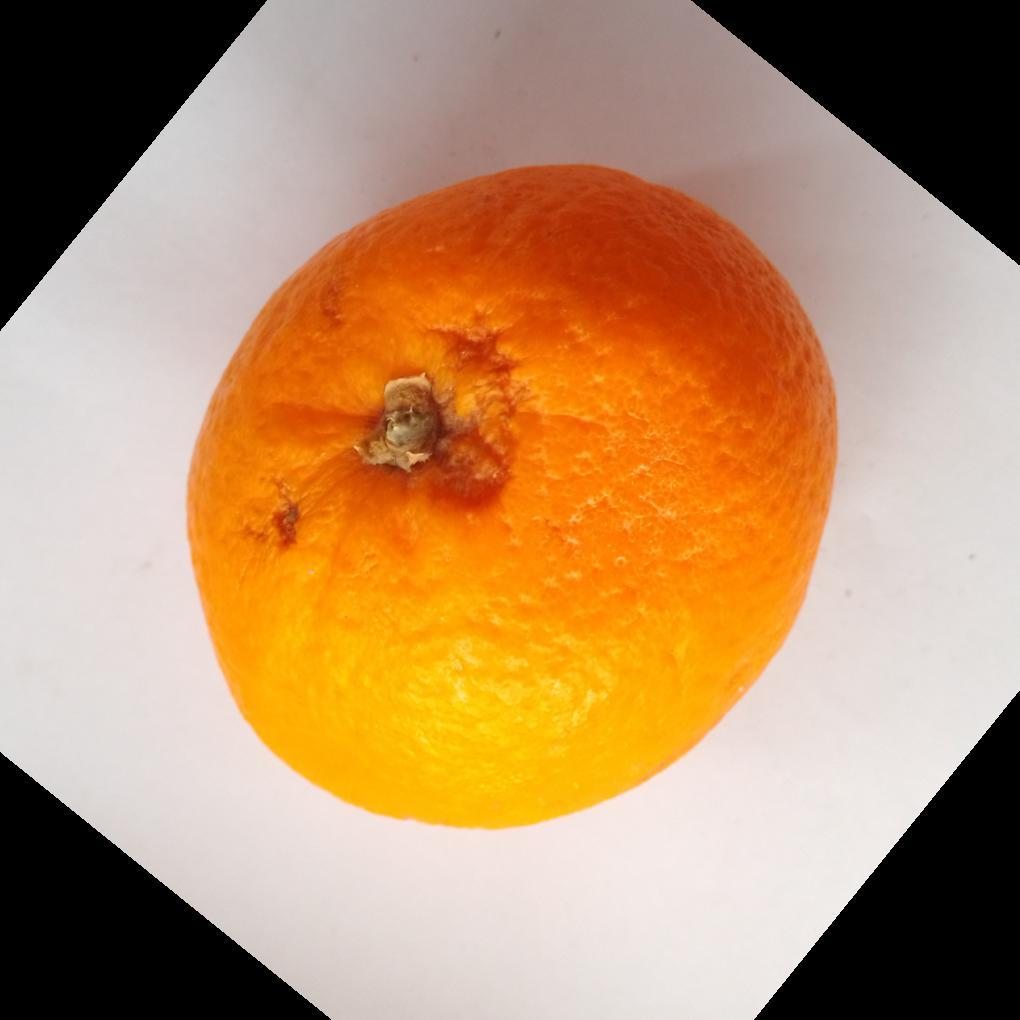FreshGuava: (183, 163, 839, 834)
